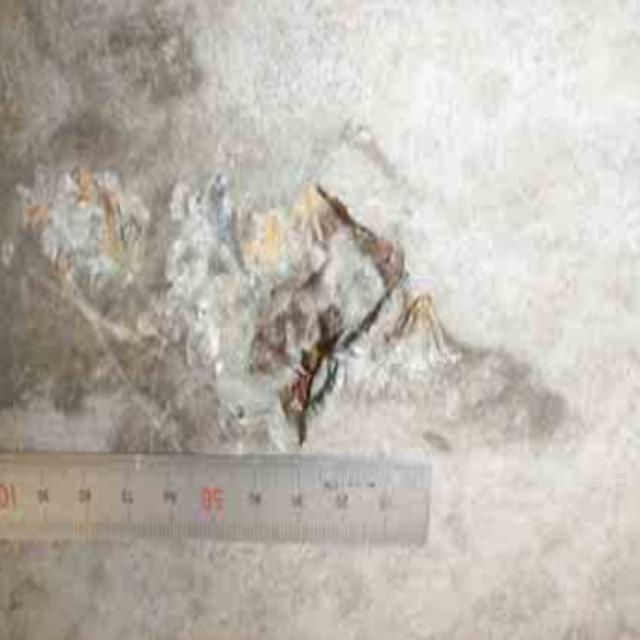spalling: (32, 131, 524, 460)
